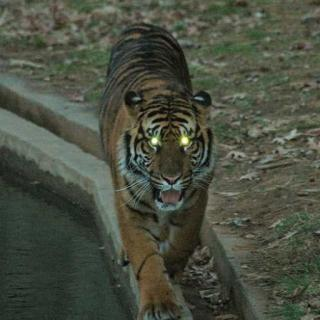Tiger: (91, 12, 248, 318)
